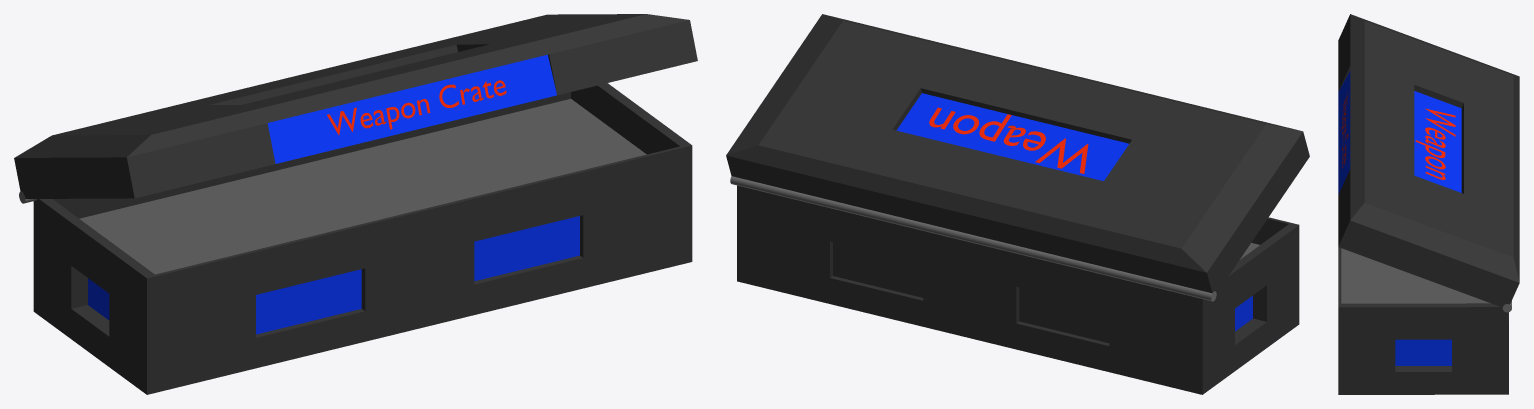
File: weapon Crate.fbx
3 views of the same model, side by side, from view 1: azimuth 30°, elevation 25°; view 2: azimuth 150°, elevation 25°; view 3: azimuth 270°, elevation 25° (orthographic). The views are drawn at different scales.
Visible parts, largest first — view 1: weapon Crate; view 2: weapon Crate; view 3: weapon Crate.
Part boxes in pixels (left/top/right/bottom): weapon Crate: left=14, top=14, right=697, bottom=394; weapon Crate: left=726, top=14, right=1309, bottom=394; weapon Crate: left=1338, top=14, right=1519, bottom=394.
Size of the model in its own units: 1011 by 415 by 375.
